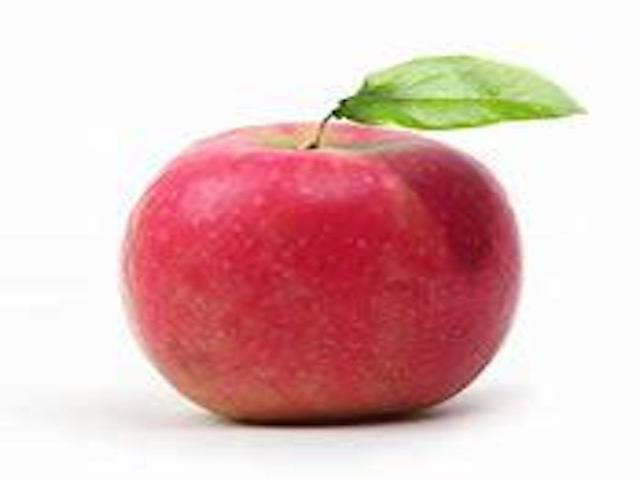apple: (114, 44, 592, 429)
